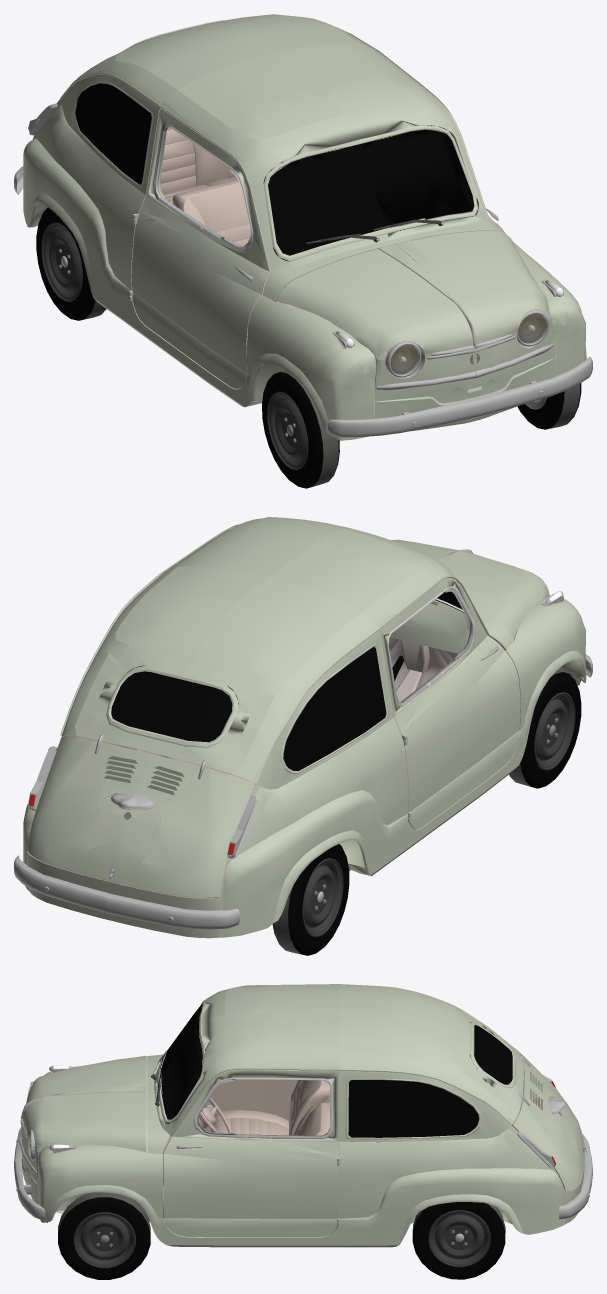
Rendered from Fiat 600 Prototipo.gltf.
3 views of the same model, one above another, from view 1: azimuth 30°, elevation 25°; view 2: azimuth 150°, elevation 25°; view 3: azimuth 270°, elevation 25° (orthographic). The views are drawn at different scales.
Visible parts, largest first — view 1: node-0; view 2: node-0; view 3: node-0.
Part boxes in pixels (x1,y1,x2,y2): node-0: [14, 14, 592, 488]; node-0: [14, 517, 592, 955]; node-0: [14, 984, 592, 1279].
Bounding box in the file's own units: 140 × 137 × 322.
